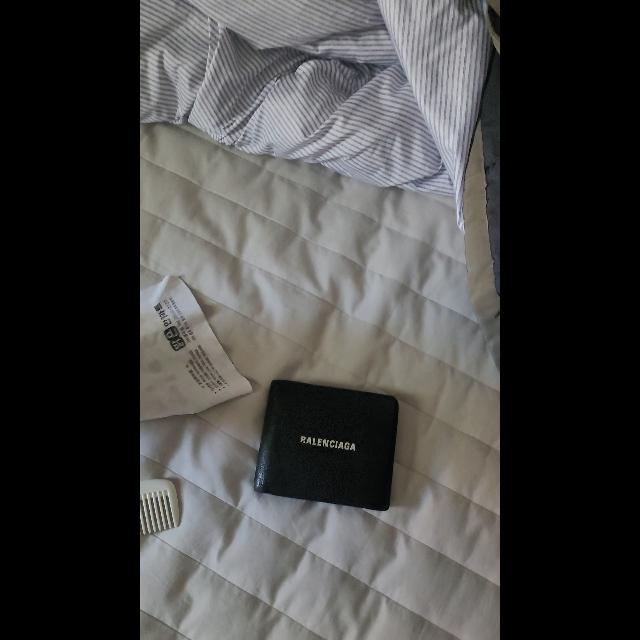COMB: (140, 479, 180, 535)
Glasses cleaning cloth: (140, 275, 252, 423)
WALLET: (254, 380, 398, 512)
